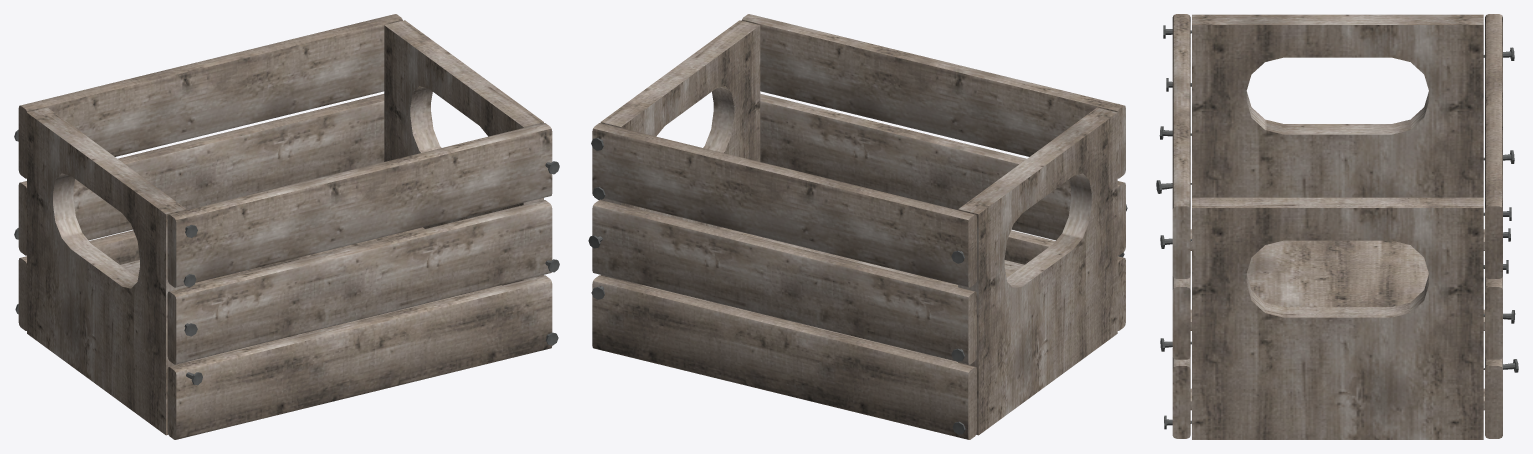
File: simple_crate.glb
3 renders of one model, left to right at view 1: azimuth 30°, elevation 25°; view 2: azimuth 150°, elevation 25°; view 3: azimuth 270°, elevation 25°, orthographic. The views are drawn at different scales.
Parts seen in each view (by area): view 1: Object_2; view 2: Object_2; view 3: Object_2.
Part boxes in pixels (box(x1,y1,x2,y2)): Object_2: box(14, 14, 559, 439); Object_2: box(588, 14, 1127, 439); Object_2: box(1156, 14, 1518, 439).
Bounding box in the file's own units: 3.6 × 2.01 × 2.83.
Materials: 1 (1 with a texture image).
